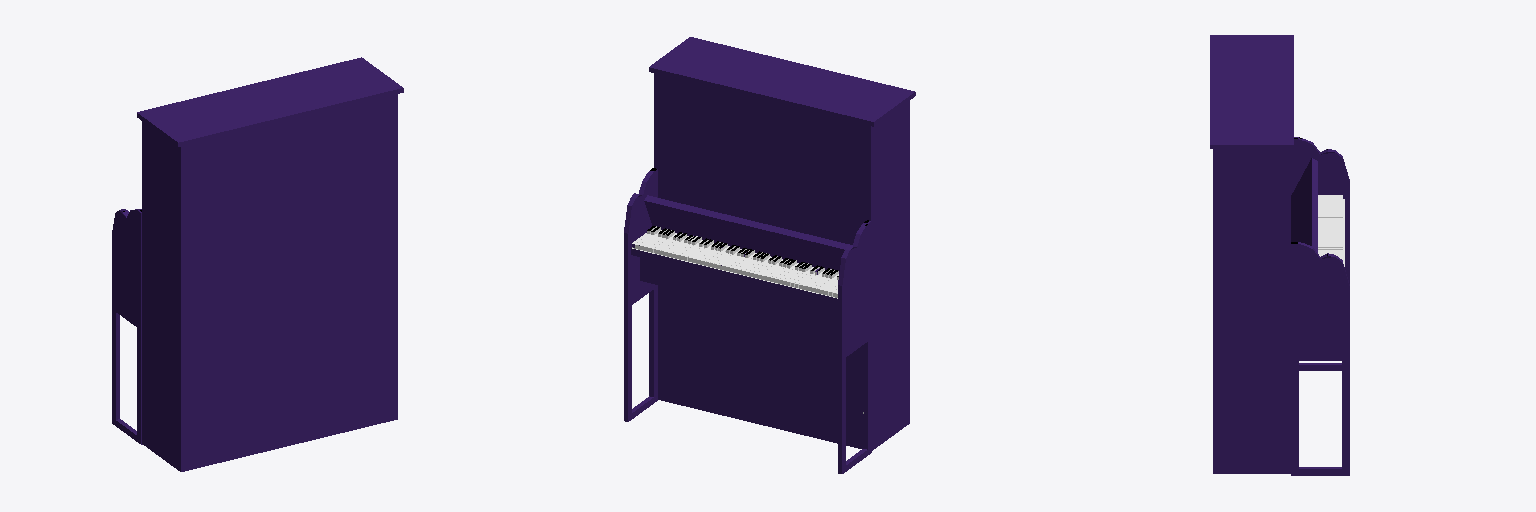
3 views of the same model, side by side, from view 1: azimuth 30°, elevation 25°; view 2: azimuth 150°, elevation 25°; view 3: azimuth 270°, elevation 25° (orthographic).
Parts seen in each view (by area): view 1: Cubo.002; view 2: Cubo.002; view 3: Cubo.002.
Part boxes in pixels (left/top/right/bottom): Cubo.002: left=112, top=57, right=403, bottom=471; Cubo.002: left=624, top=37, right=915, bottom=473; Cubo.002: left=1210, top=35, right=1349, bottom=475.
Bounding box in the file's own units: 15.76 × 22.23 × 8.47.
Materials: 1 (1 with a texture image).